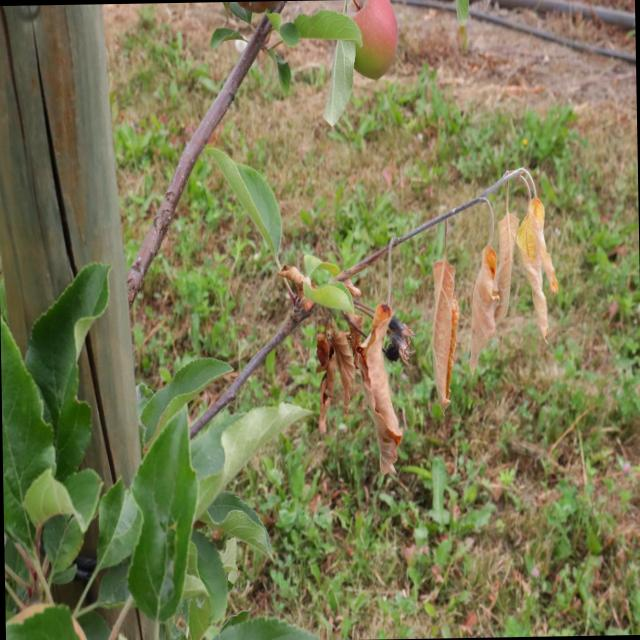-FireBlight-: (313, 164, 559, 476)
